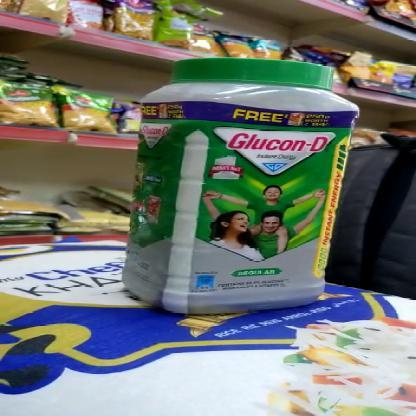Glucon D Regular 2-KG: (125, 54, 349, 310)
